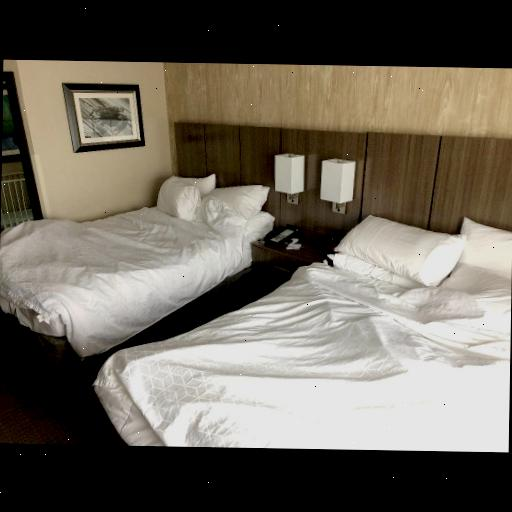Disorganized_pillow: (323, 208, 511, 310), (155, 171, 270, 231)
messy_bed: (86, 131, 512, 452), (0, 120, 277, 374)
